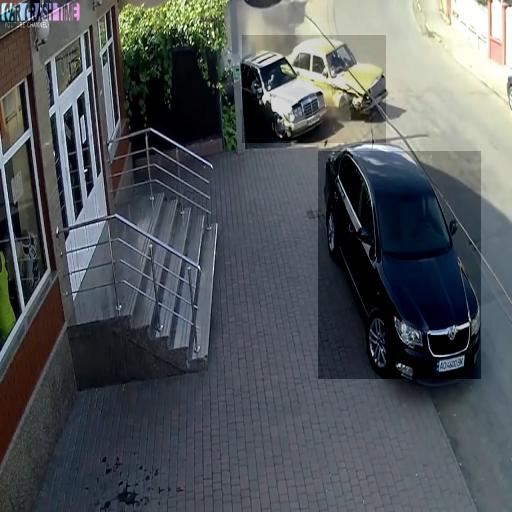小汽车: (318, 151, 481, 379)
小汽车撞小汽车: (242, 35, 386, 143)
